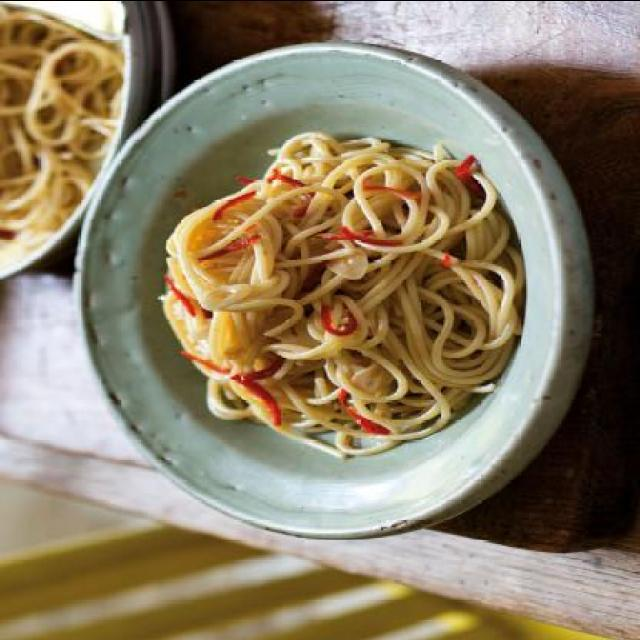Oil pasta: (142, 96, 534, 510)
